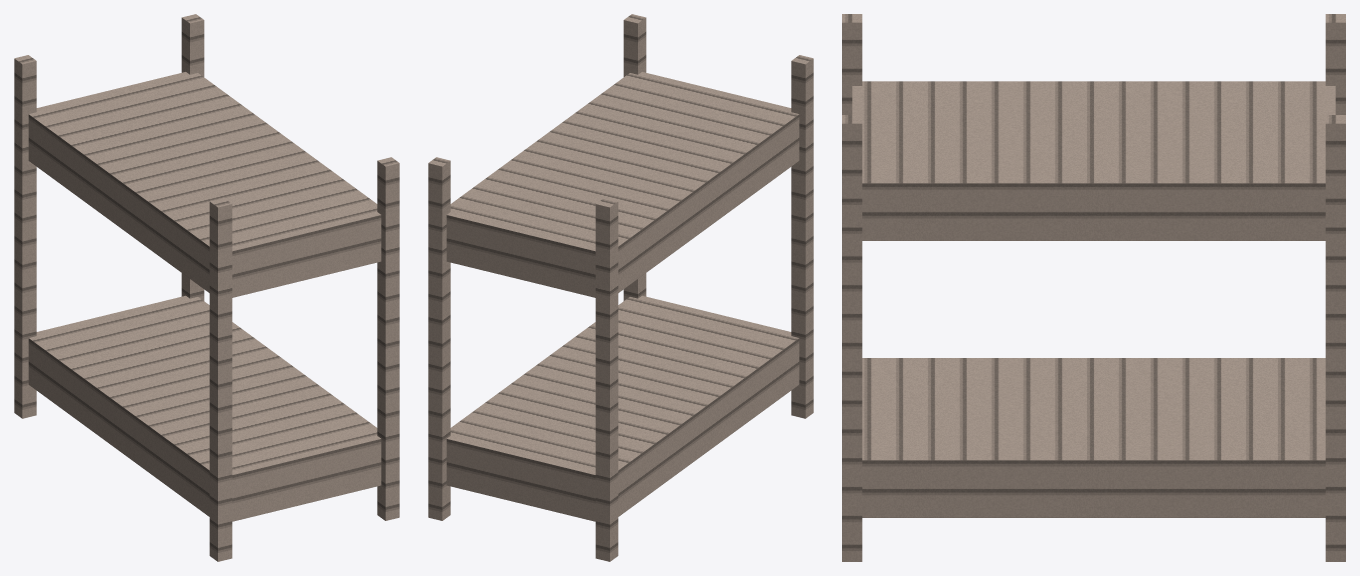
The model's file is bunk_bed.glb.
3 renders of one model, left to right at view 1: azimuth 30°, elevation 25°; view 2: azimuth 150°, elevation 25°; view 3: azimuth 270°, elevation 25°, orthographic. The views are drawn at different scales.
Visible parts, largest first — view 1: bunk_bed-col; view 2: bunk_bed-col; view 3: bunk_bed-col.
Boxes of the visible parts, x1=… form: bunk_bed-col: x1=14, y1=14, x2=399, y2=561; bunk_bed-col: x1=428, y1=14, x2=813, y2=561; bunk_bed-col: x1=842, y1=14, x2=1345, y2=561.
Bounding box in the file's own units: 1.02 × 1.9 × 1.98.
Materials: 1 (1 with a texture image).
